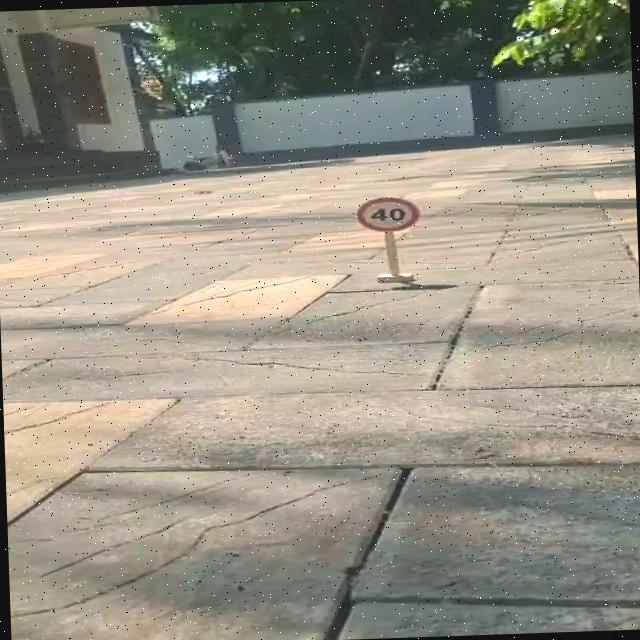Speed40: (353, 193, 425, 234)
